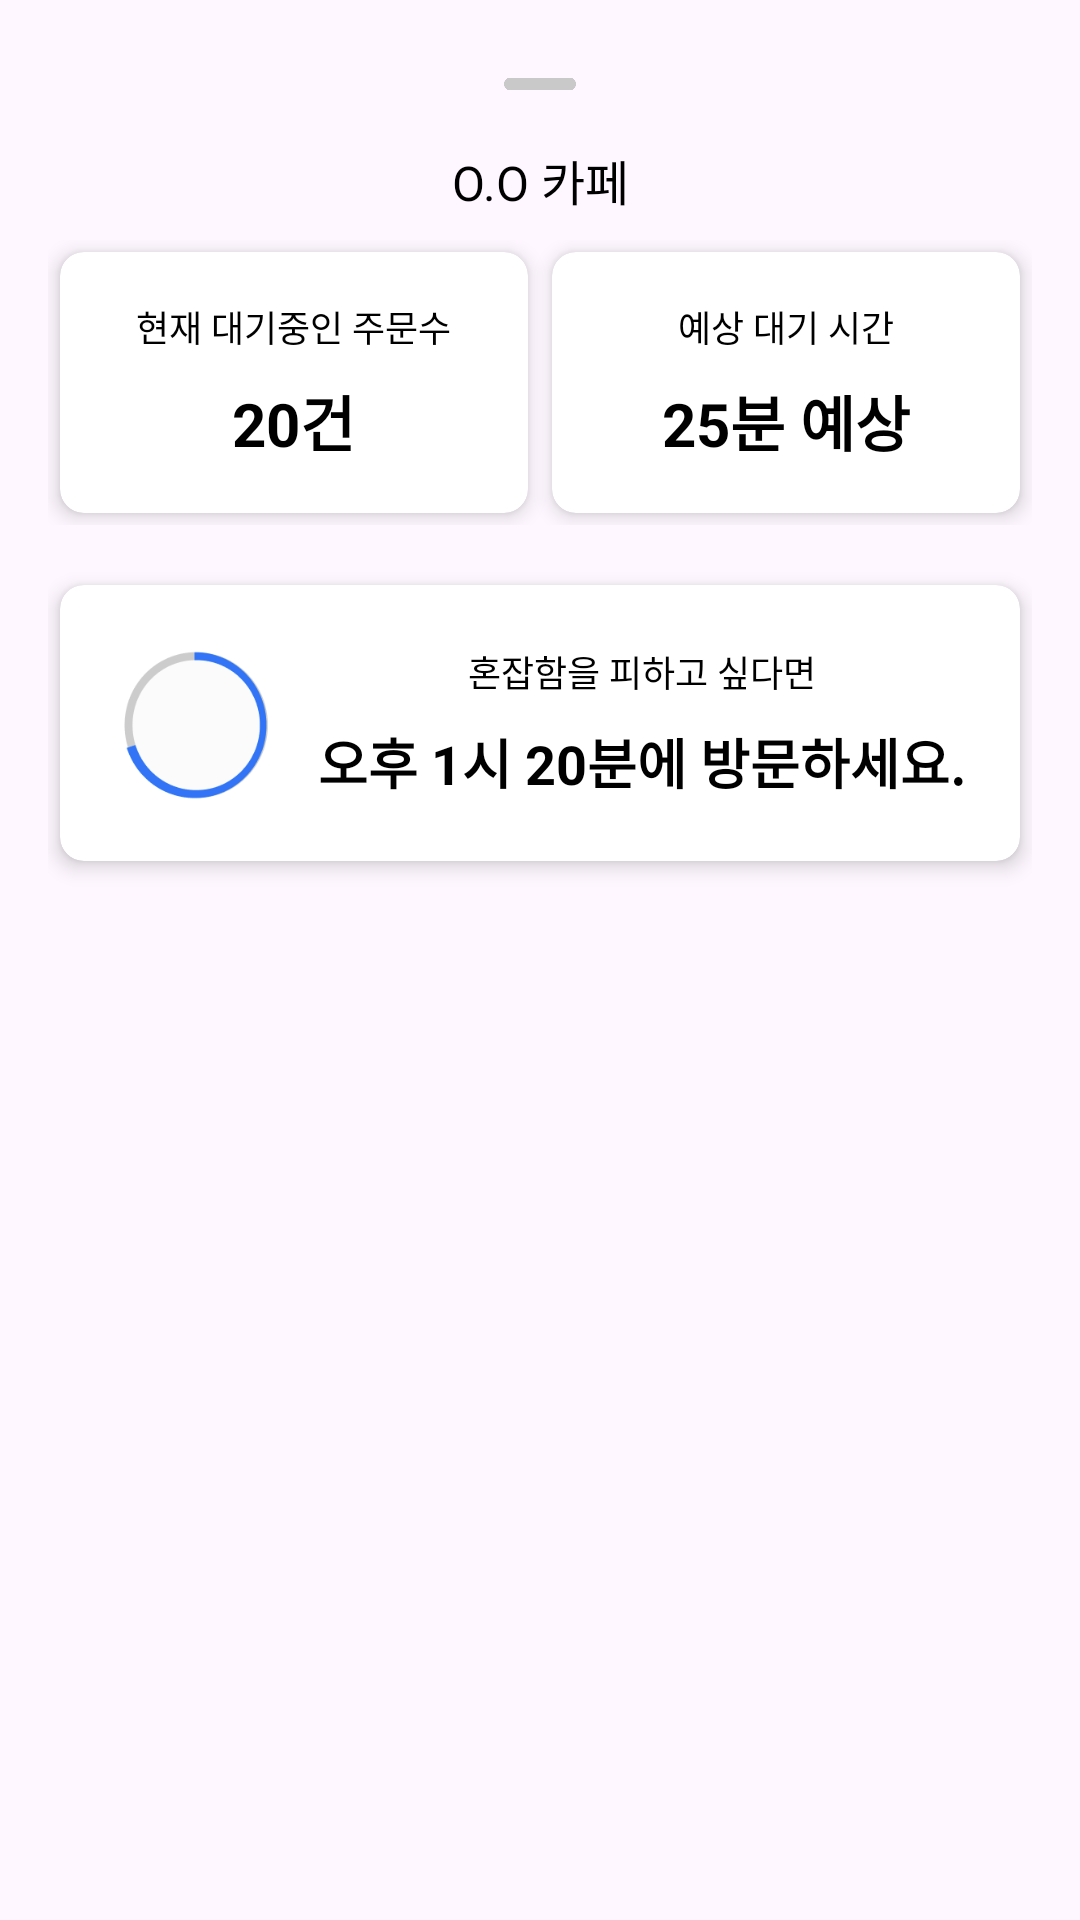

Locate icon controls on the screen. Image size 1080px x 1920px, boxes as [x1=x1, y1=y1, x2=x2, y2=y2].
graph: [x1=125, y1=652, x2=268, y2=799]
